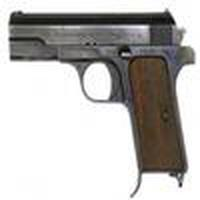gun: (6, 7, 200, 187)
